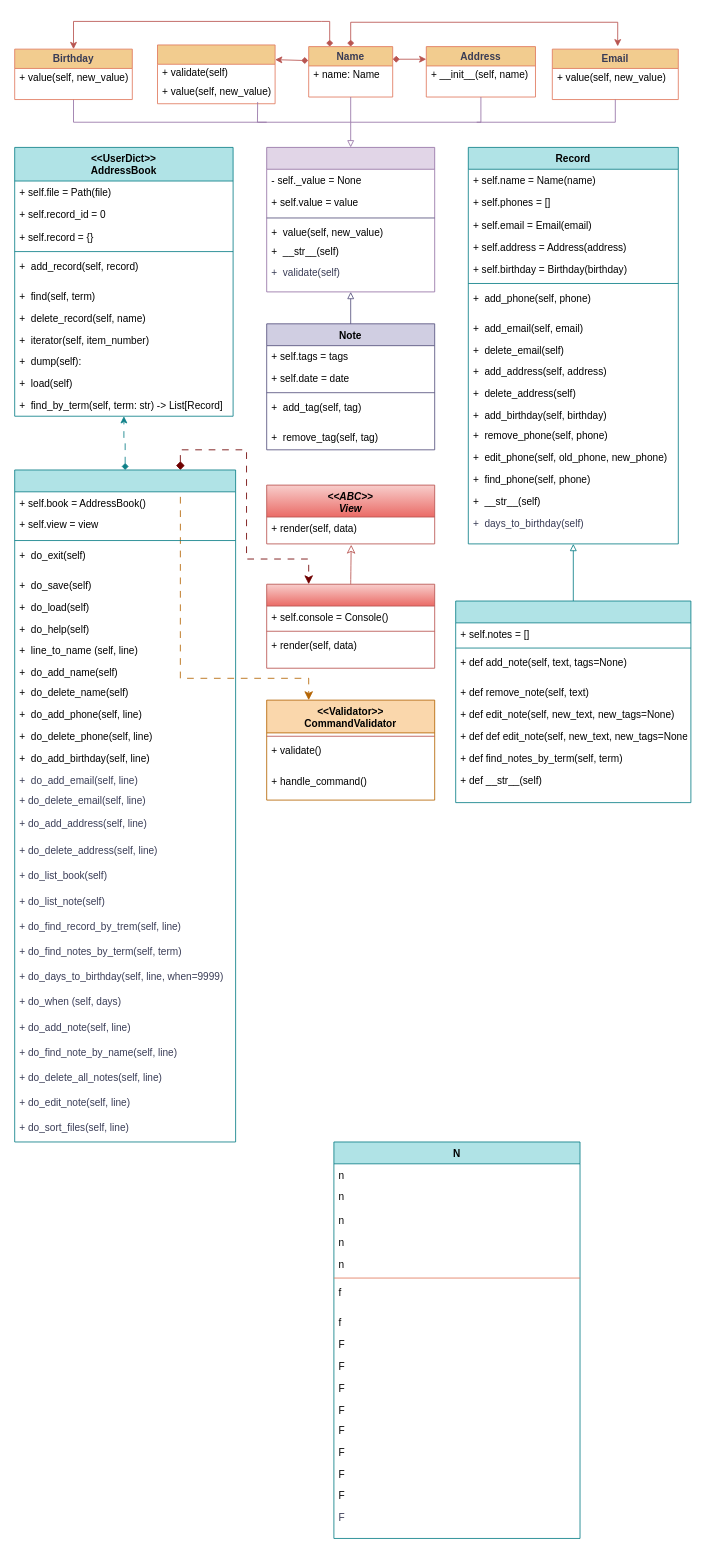
Some shapes in this 706 by 1554 pixel diagram are drawn without their labels. The box of each missing label's shape, as (x1, y1, x2, y2) in pixels:
ConsoleView: (266, 583, 435, 668)
Controller: (14, 469, 236, 1142)
Filed: (266, 147, 435, 292)
NoteRecord: (455, 600, 691, 803)
Phone: (157, 44, 275, 104)
